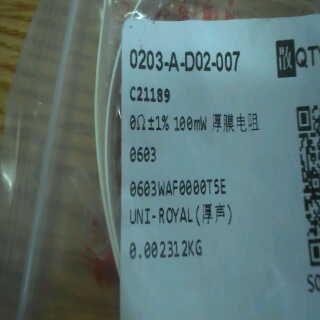0R: (127, 107, 209, 168)
